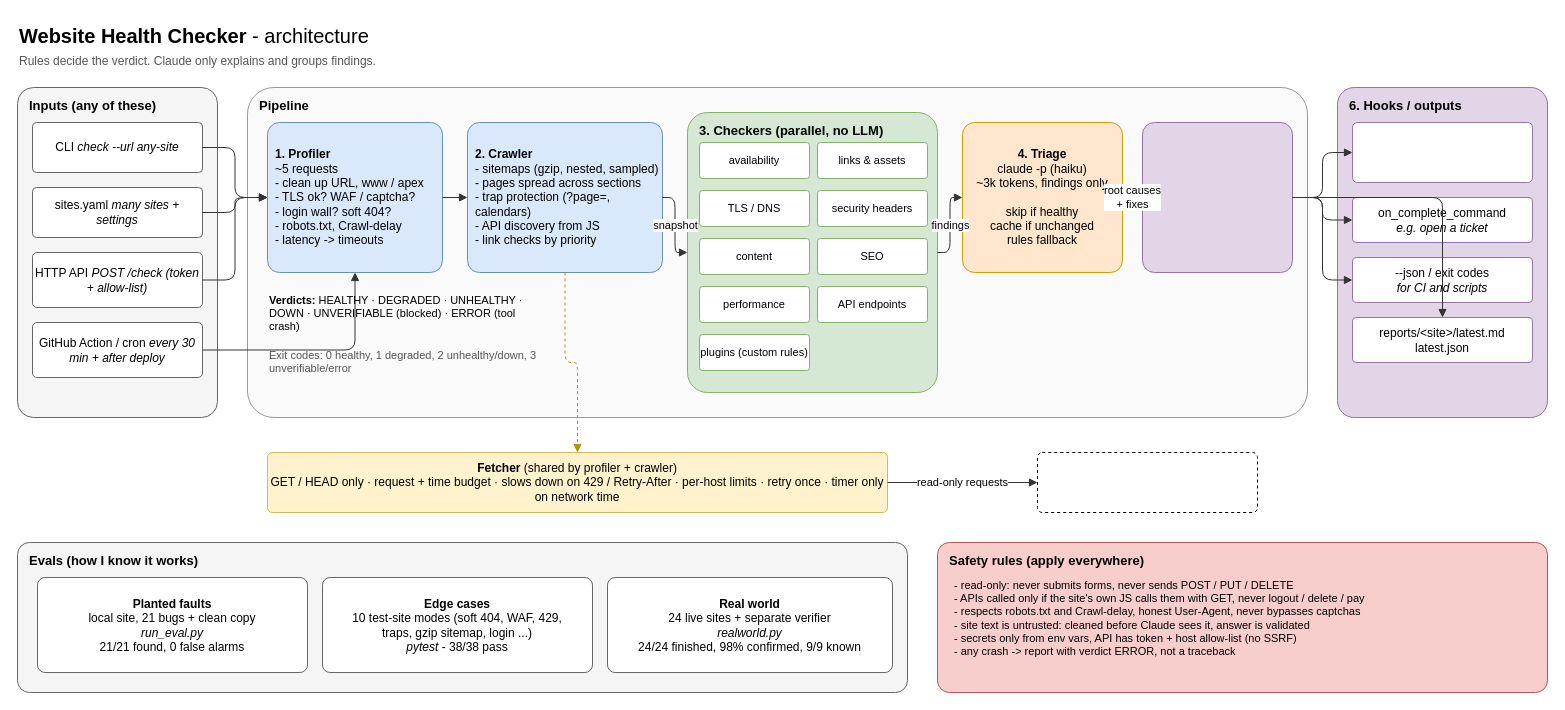
Some shapes in this 1565 by 710 pixel diagram are drawn without their labels. The shapes that lost their labels are listed below. From the top down, each one's centre as x and y in pixels, then its label:
At point 1442,152: "signed webhook Slack, Teams, any URL fires only on change".
At point 1217,197: "5. Report verdict + score (rules only) JSON + Markdown diff vs last run".
At point 1147,482: "Target website any site on the internet or localhost".
